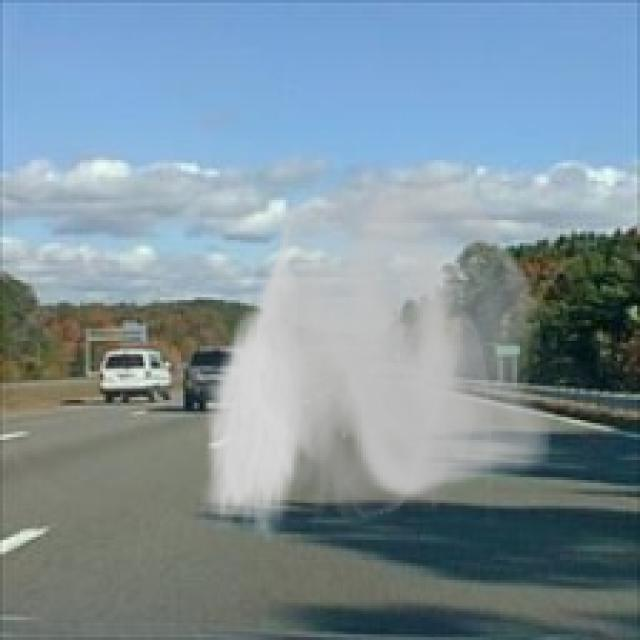Smoke: (199, 157, 552, 543)
